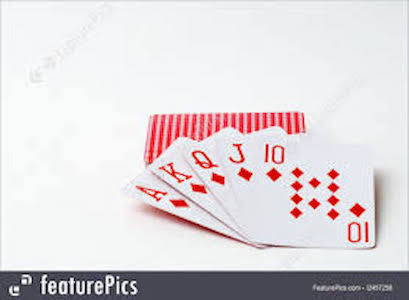10OfDiamonds: (256, 133, 381, 252)
AceOfDiamonds: (113, 181, 214, 231)
JackOfDiamonds: (222, 136, 263, 200)
KingOfDiamonds: (147, 157, 210, 197)
QueenOfDiamonds: (183, 139, 235, 190)
